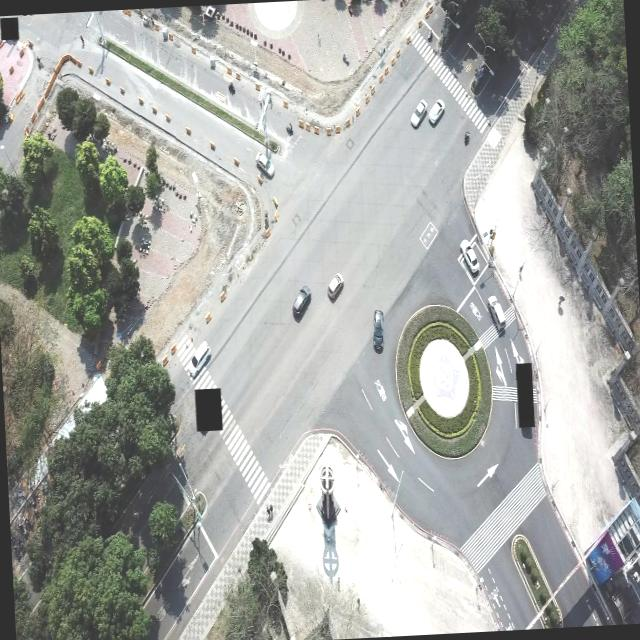car: (188, 339, 212, 379), (487, 293, 507, 336), (460, 238, 480, 274), (291, 284, 312, 318), (371, 308, 385, 352), (256, 150, 275, 179), (410, 99, 428, 128), (426, 99, 446, 125), (326, 272, 344, 300)
